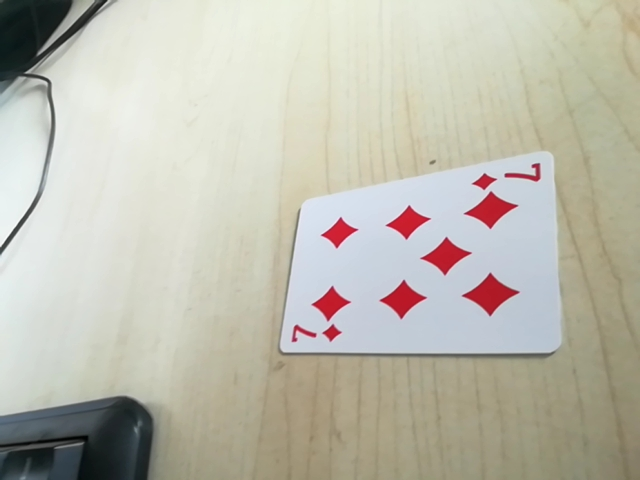fk 7: (469, 160, 544, 191), (285, 321, 346, 350)
